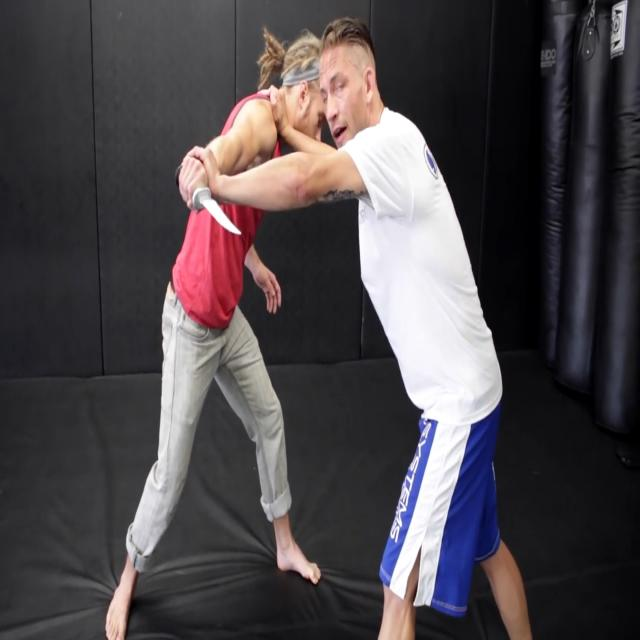knife: (199, 185, 245, 243)
